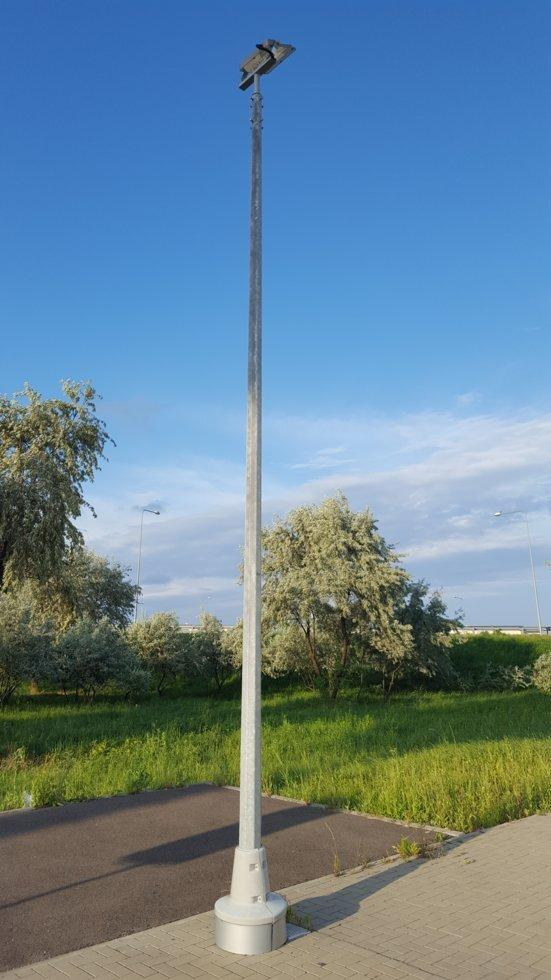Animal: (192, 28, 381, 943)
